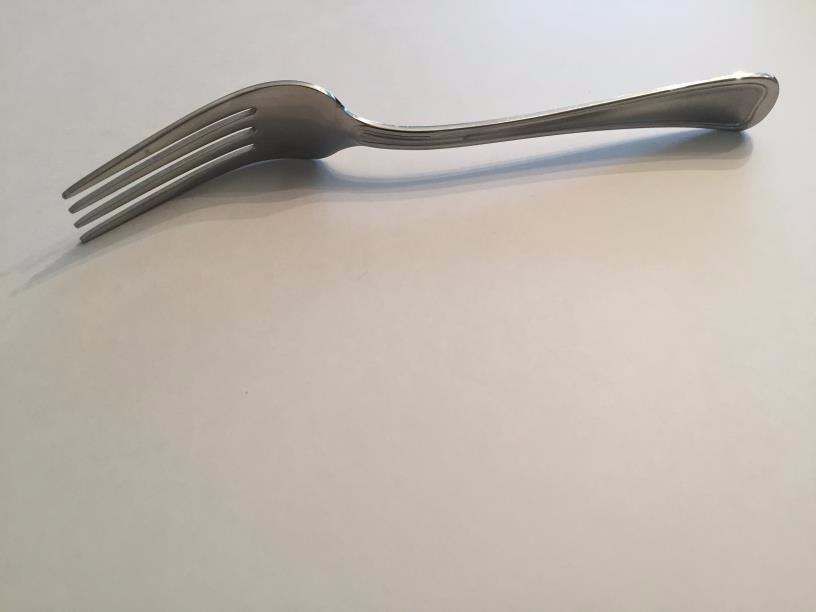fork: (50, 50, 797, 255)
